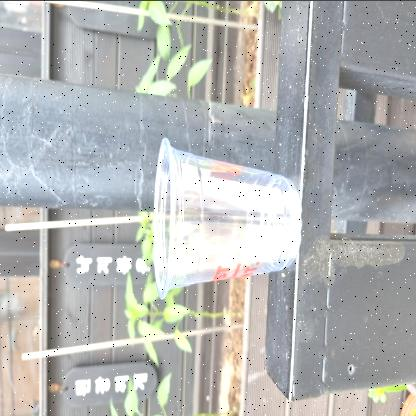Others: (146, 134, 308, 304)
